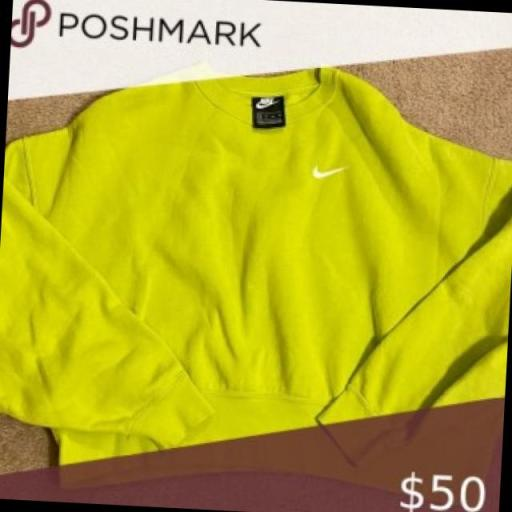Nike: (306, 162, 351, 184)
